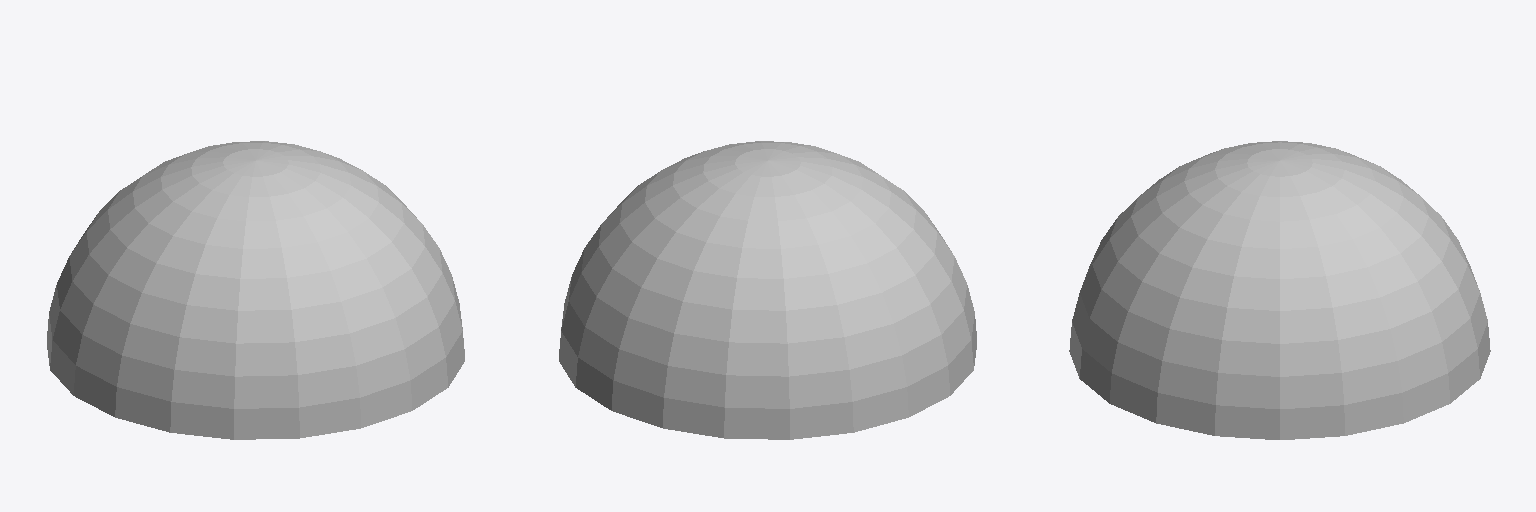
The model's file is pokeArriba.obj.
3 renders of one model, left to right at view 1: azimuth 30°, elevation 25°; view 2: azimuth 150°, elevation 25°; view 3: azimuth 270°, elevation 25°, orthographic.
Visible parts, largest first — view 1: polySurface2 pSphere1; view 2: polySurface2 pSphere1; view 3: polySurface2 pSphere1.
Part boxes in pixels (bbox=[...]): polySurface2 pSphere1: bbox=[47, 141, 464, 439]; polySurface2 pSphere1: bbox=[559, 141, 976, 439]; polySurface2 pSphere1: bbox=[1069, 141, 1490, 439].
Bounding box in the file's own units: 2 × 1 × 2.